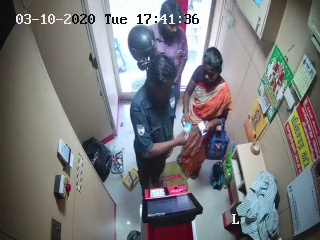helmet: (126, 23, 160, 63)
